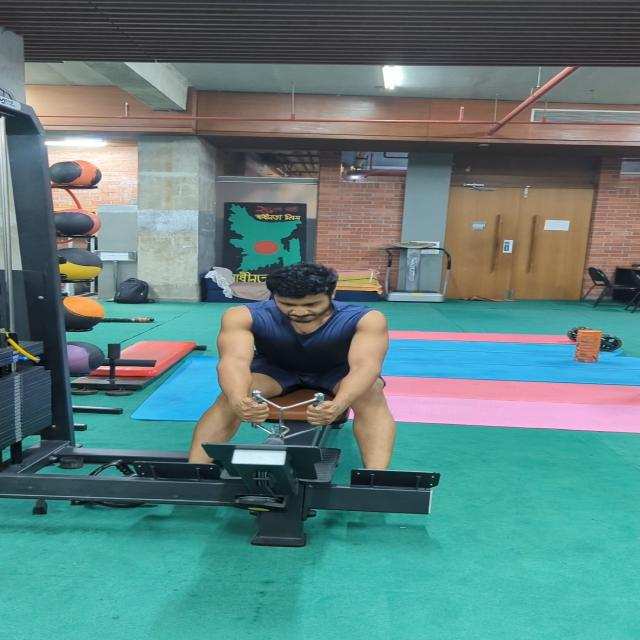Normal_RowingMachineExercise: (184, 260, 396, 471)
